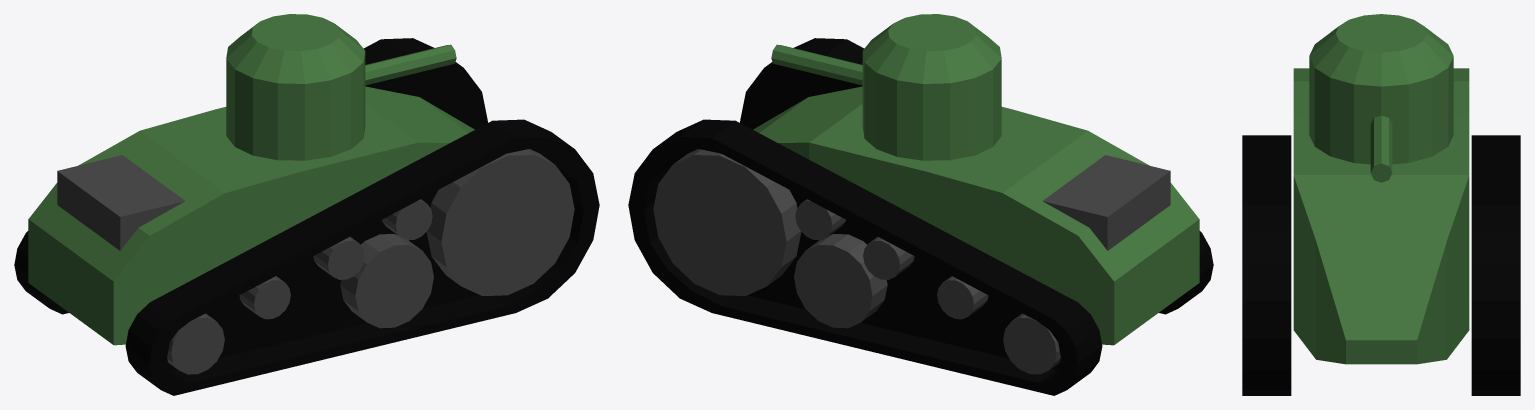
File: tank2.gltf
3 views of the same model, side by side, from view 1: azimuth 30°, elevation 25°; view 2: azimuth 150°, elevation 25°; view 3: azimuth 270°, elevation 25° (orthographic). The views are drawn at different scales.
Parts seen in each view (by area): view 1: bot2, top2; view 2: bot2, top2; view 3: bot2, top2.
Part boxes in pixels (x1,y1,x2,y2): bot2: (14, 38, 599, 395); top2: (226, 14, 456, 160); bot2: (628, 38, 1213, 395); top2: (771, 14, 1001, 160); bot2: (1242, 68, 1520, 395); top2: (1309, 14, 1453, 182).
Size of the model in its own units: 2.47 by 1.38 by 1.26.
3 materials, 3 textured.
